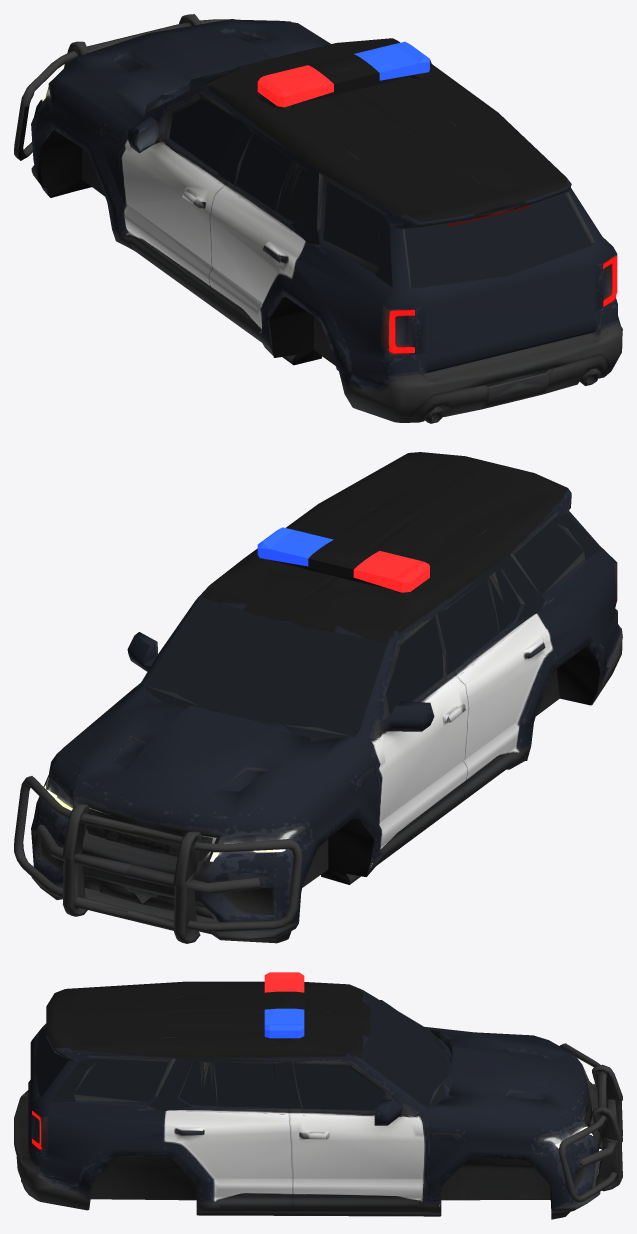
The model's file is police-suv.glb.
3 views of the same model, one above another, from view 1: azimuth 30°, elevation 25°; view 2: azimuth 150°, elevation 25°; view 3: azimuth 270°, elevation 25° (orthographic). The views are drawn at different scales.
Visible parts, largest first — view 1: body, lightbar-red, lightbar-blue; view 2: body, lightbar-red, lightbar-blue; view 3: body, lightbar-blue, lightbar-red.
Part boxes in pixels (box(x1,y1,x2,y2)): body: box(14, 14, 622, 423); lightbar-red: box(257, 65, 333, 107); lightbar-blue: box(354, 41, 429, 80); body: box(14, 452, 622, 943); lightbar-red: box(353, 551, 429, 592); lightbar-blue: box(257, 527, 333, 566); body: box(14, 981, 622, 1219); lightbar-blue: box(264, 1008, 304, 1038); lightbar-red: box(264, 972, 304, 992).
Bounding box in the file's own units: 2.15 × 1.69 × 4.96.
Materials: 16 (1 with a texture image).
